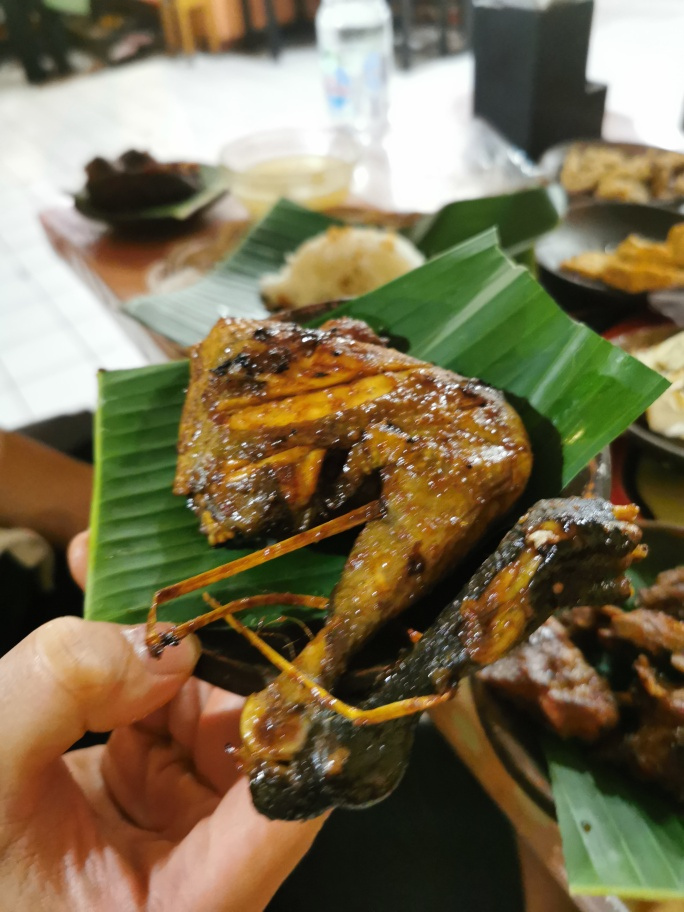ayam bakar: (174, 314, 644, 826)
